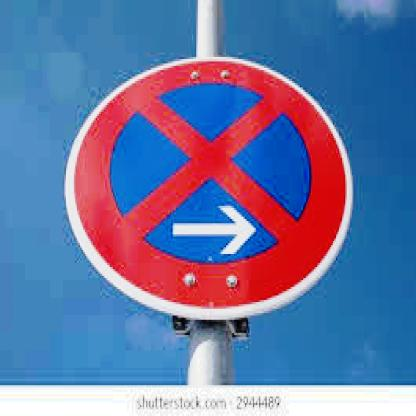No stopping: (62, 53, 355, 330)
